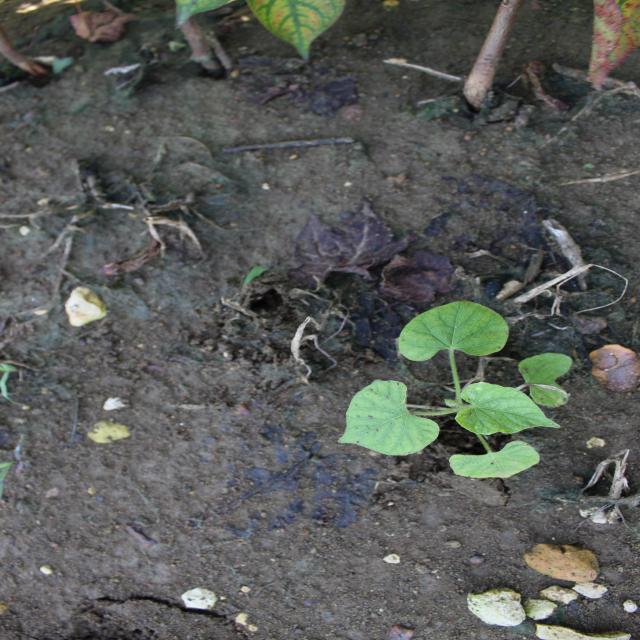MorningGlory: (335, 299, 577, 482)
